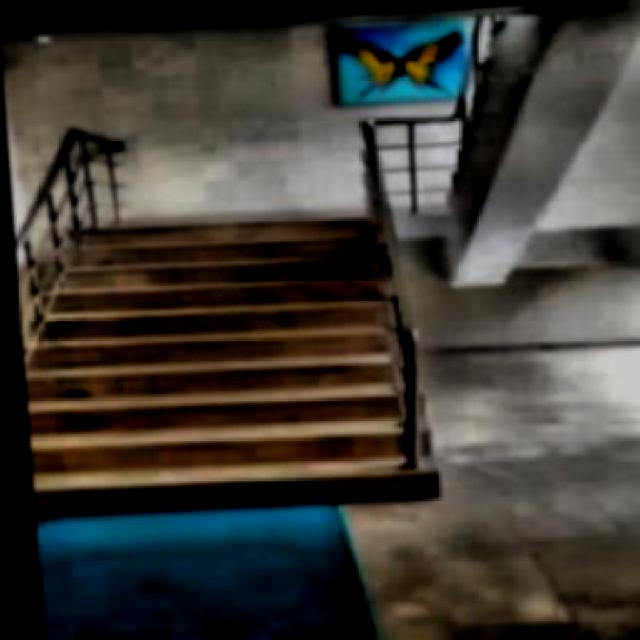stair: (12, 194, 445, 514)
